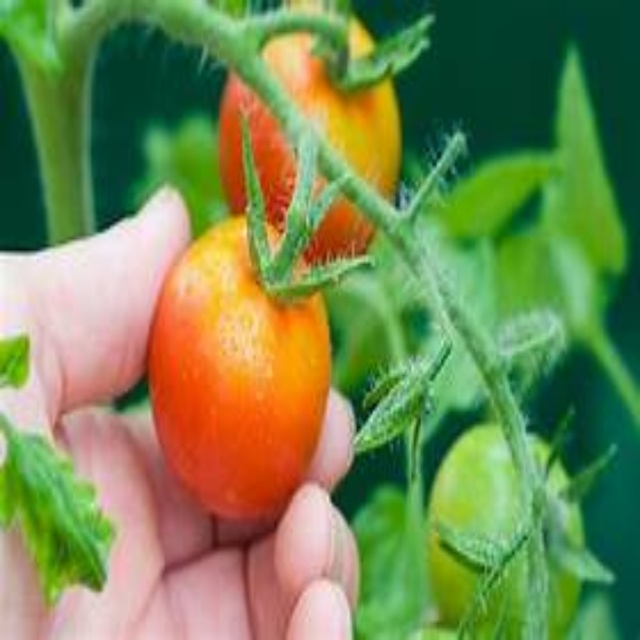tomato: (136, 216, 339, 525), (206, 20, 415, 257)
